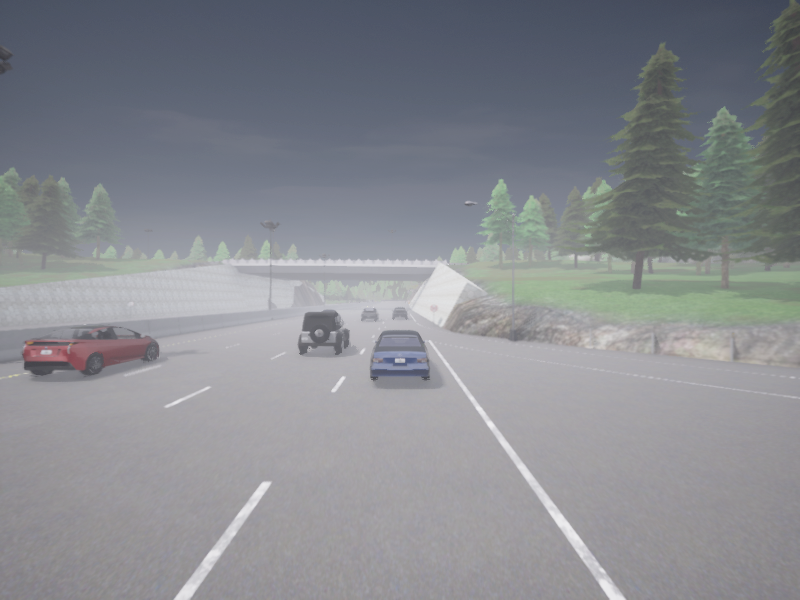vehicle: (22, 325, 158, 375), (370, 330, 429, 378), (298, 312, 349, 353), (322, 309, 341, 322), (361, 308, 378, 320), (391, 307, 408, 318)
